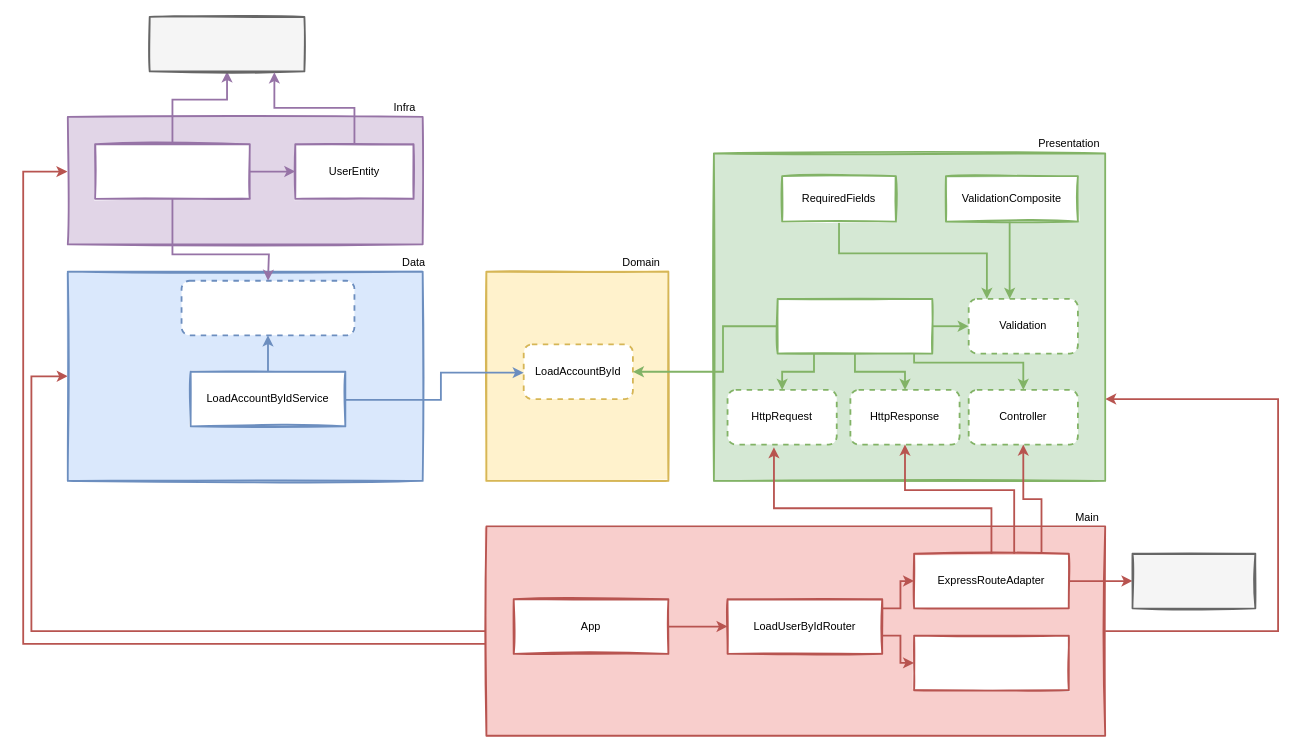
Image size: 1301x752. Some labels were removed from this diagram. The shapes that lost their labels are listed below. From the top down, each one's box as (x1, y1, x2, y2) in pixels, then its label:
(148, 15, 305, 72): TypeOrm
(94, 143, 250, 199): AccountPgRepository
(180, 279, 355, 336): LoadAccountByIdRepository
(776, 298, 933, 354): LoadUserByIdController
(1131, 552, 1256, 609): Express
(913, 634, 1069, 691): LoadUserByIdFactory
